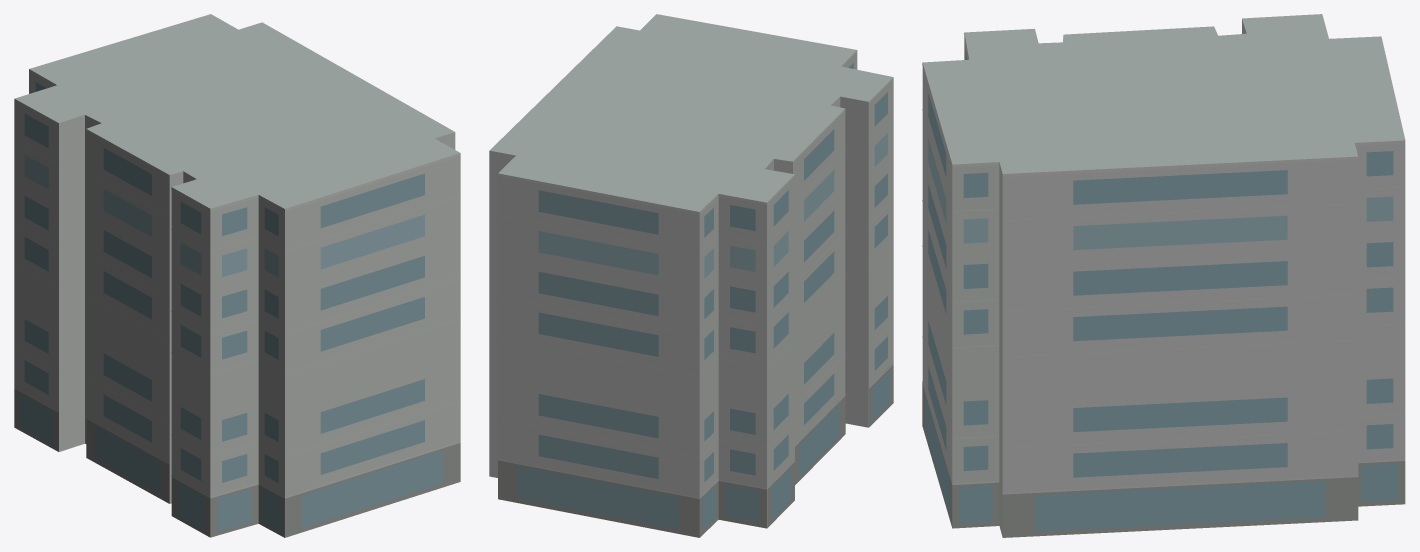
Rendered from survey-upis-32859982.glb.
3 renders of one model, left to right at view 1: azimuth 30°, elevation 25°; view 2: azimuth 150°, elevation 25°; view 3: azimuth 270°, elevation 25°, orthographic. The views are drawn at different scales.
Parts seen in each view (by area): view 1: survey-upis-32859982.tmp; view 2: survey-upis-32859982.tmp; view 3: survey-upis-32859982.tmp.
Part boxes in pixels (box(x1,y1,x2,y2)): survey-upis-32859982.tmp: box(14, 14, 460, 537); survey-upis-32859982.tmp: box(489, 14, 893, 537); survey-upis-32859982.tmp: box(922, 14, 1405, 537).
Bounding box in the file's own units: 26.46 × 28.02 × 33.73.
